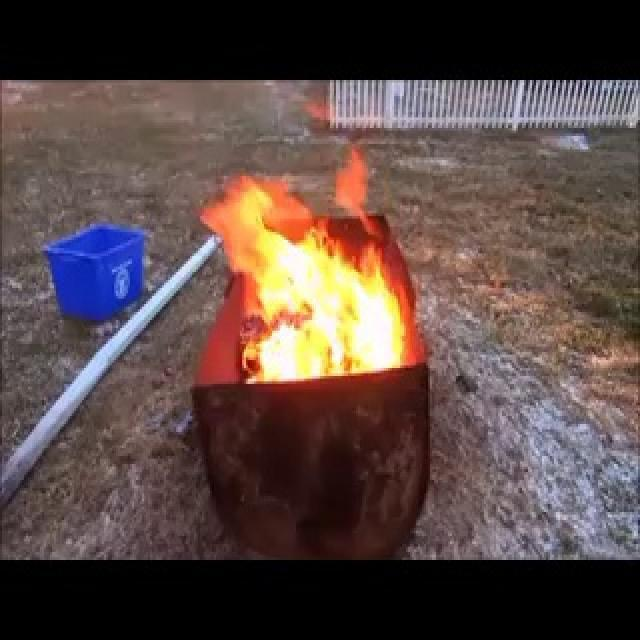Fire: (195, 144, 425, 387)
